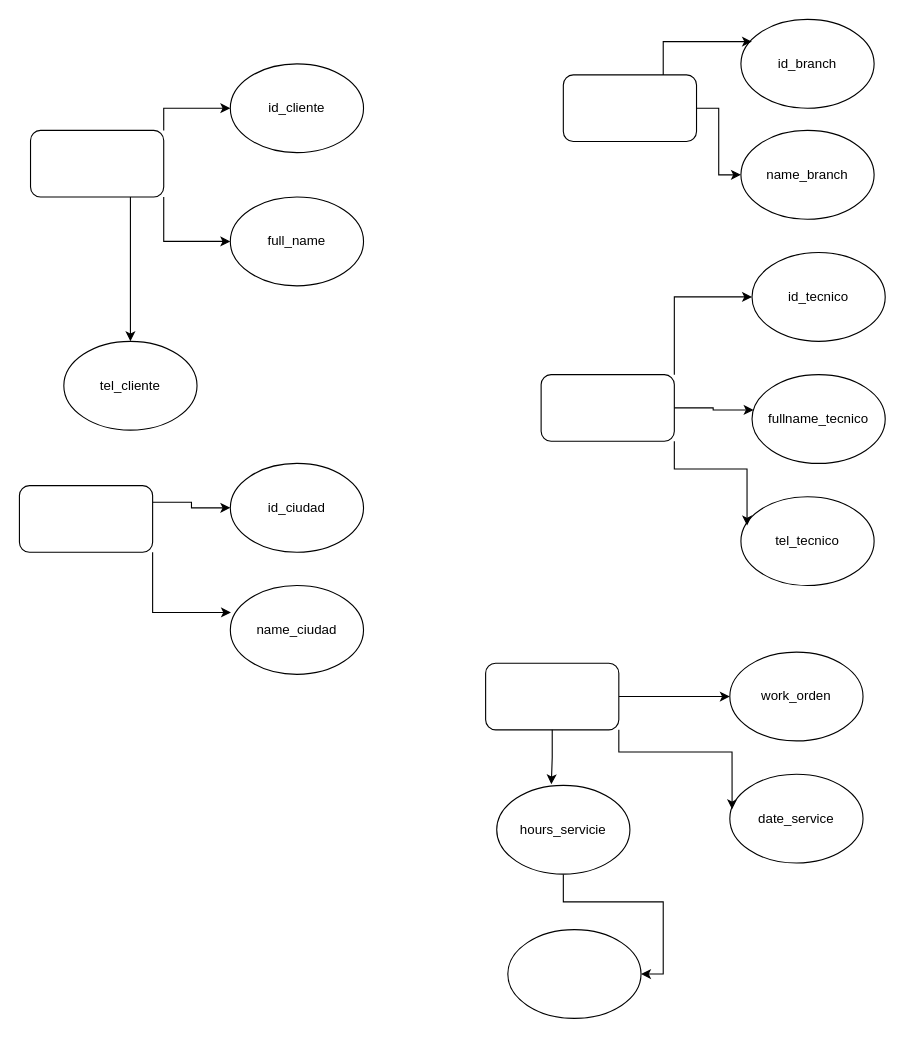
Some shapes in this 905 by 1038 pixel diagram are drawn without their labels. Each missing label, with the box of its shape:
bracnh: (562, 74, 697, 142)
city: (18, 485, 153, 552)
cliente: (29, 129, 164, 197)
cost_service: (507, 929, 641, 1018)
orden_equipo: (485, 662, 619, 730)
tecnico: (540, 374, 674, 441)
